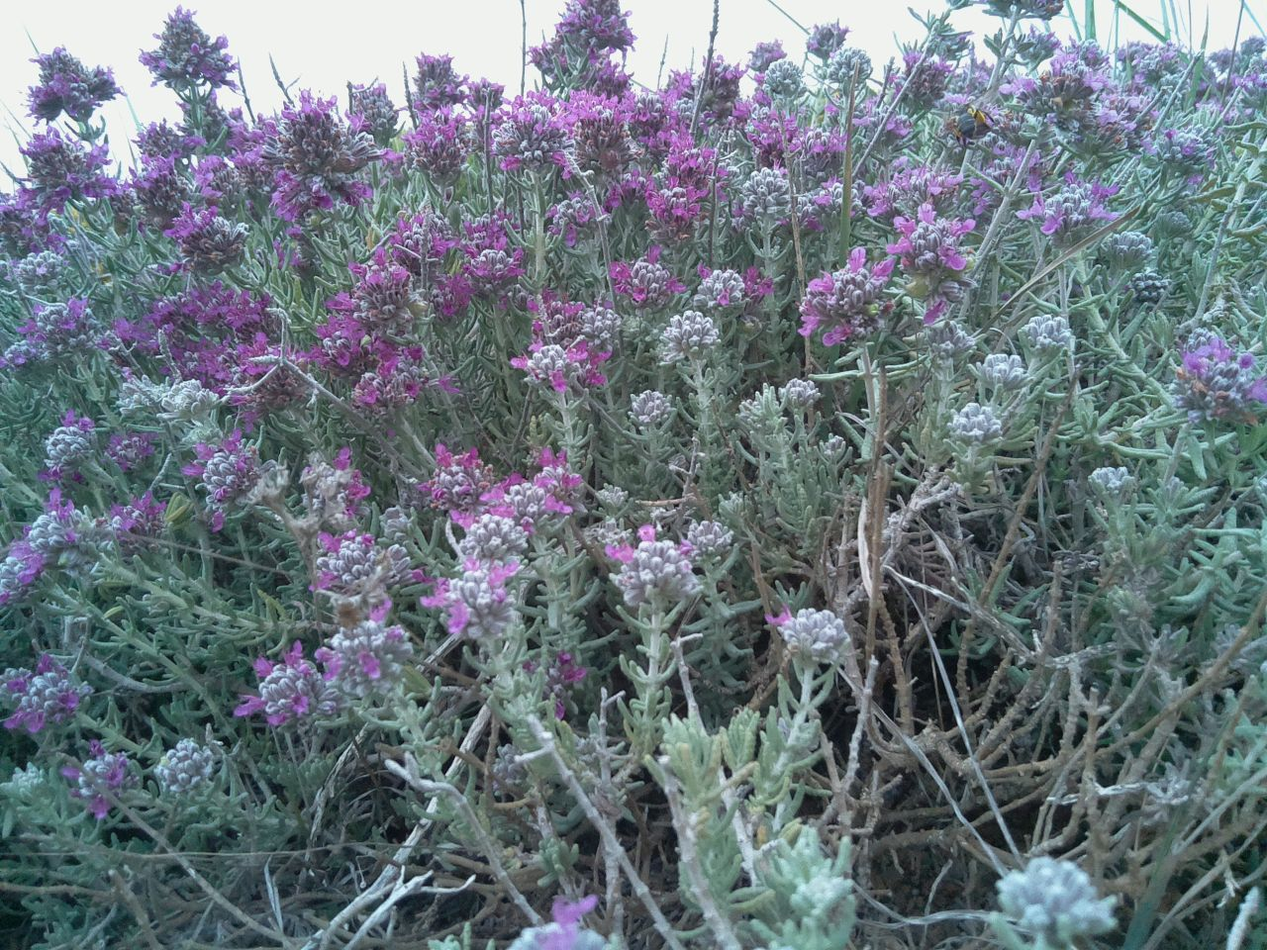bee: (931, 91, 1001, 142)
